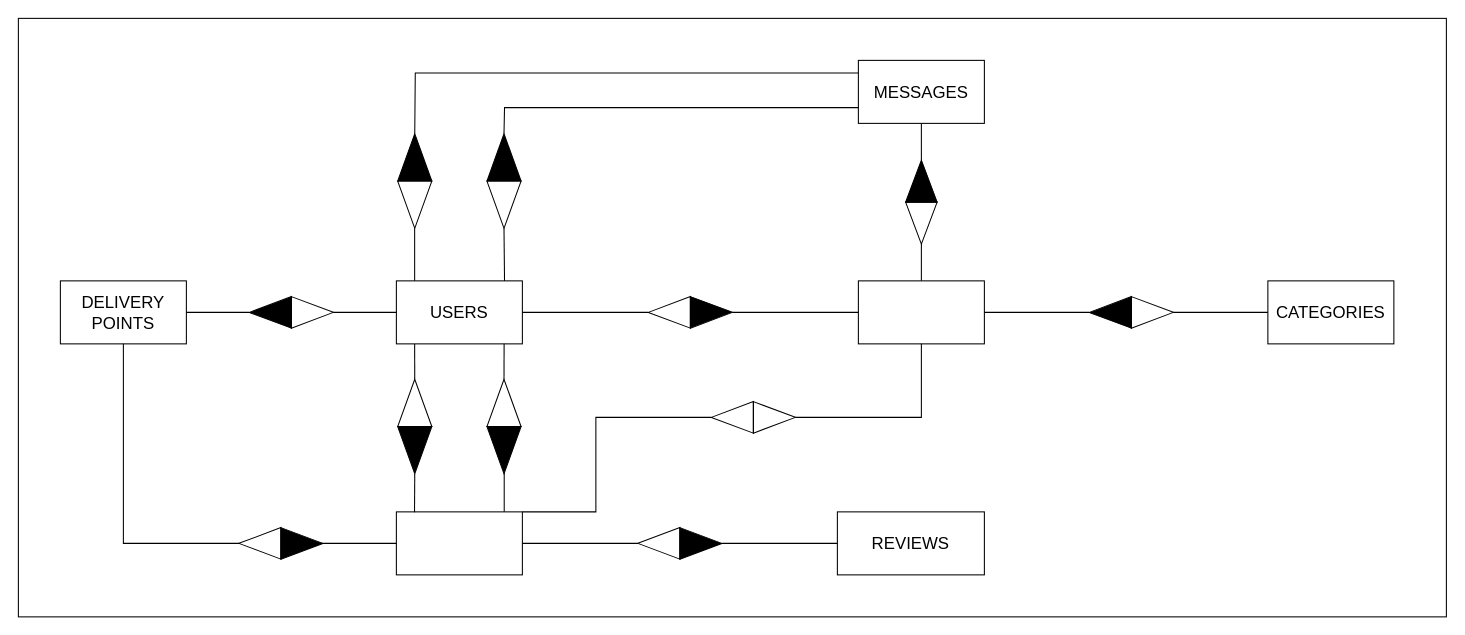
Some shapes in this 1465 by 635 pixel diagram are drawn without their labels. Here are the shapes that lost their labels. From the top down, the box of each, then its label:
(857, 280, 984, 344): PRODUCTS
(395, 511, 522, 575): SALES
